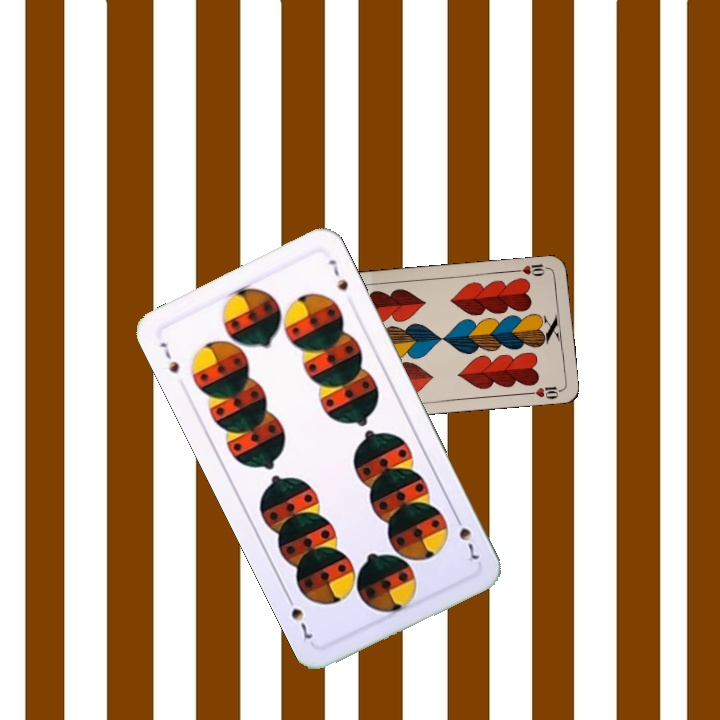H10: (512, 259, 552, 279)
S7: (450, 510, 482, 564), (155, 338, 182, 377)
